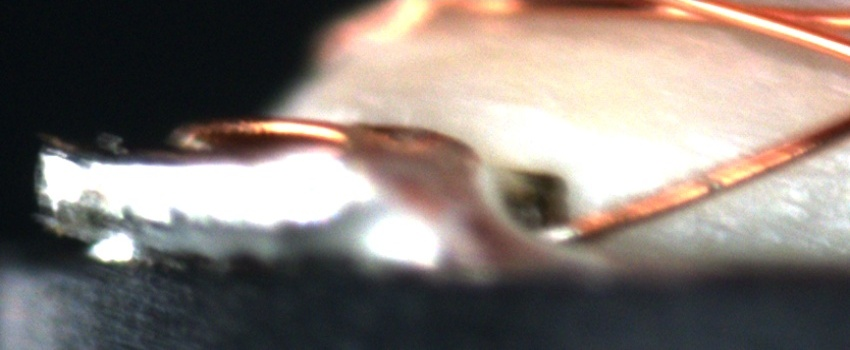TE: (184, 102, 398, 151)
